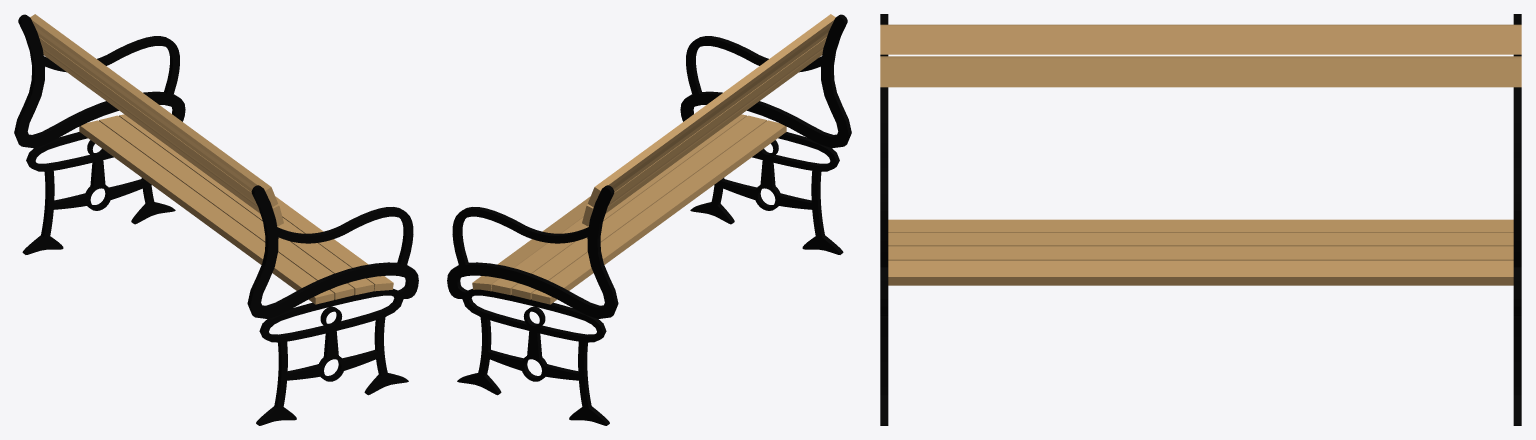
3 views of the same model, side by side, from view 1: azimuth 30°, elevation 25°; view 2: azimuth 150°, elevation 25°; view 3: azimuth 270°, elevation 25° (orthographic). The views are drawn at different scales.
Visible parts, largest first — view 1: Mesh2_skpE9FB1_Component1_Model; view 2: Mesh2_skpE9FB1_Component1_Model; view 3: Mesh2_skpE9FB1_Component1_Model.
Part boxes in pixels (box(x1,y1,x2,y2)): Mesh2_skpE9FB1_Component1_Model: box(14, 14, 418, 425); Mesh2_skpE9FB1_Component1_Model: box(447, 14, 851, 425); Mesh2_skpE9FB1_Component1_Model: box(880, 14, 1521, 425).
Size of the model in its own units: 0.9987 by 2.43 by 1.37.
